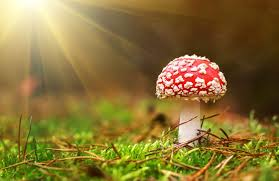Amanita muscaria: (150, 46, 230, 142)
